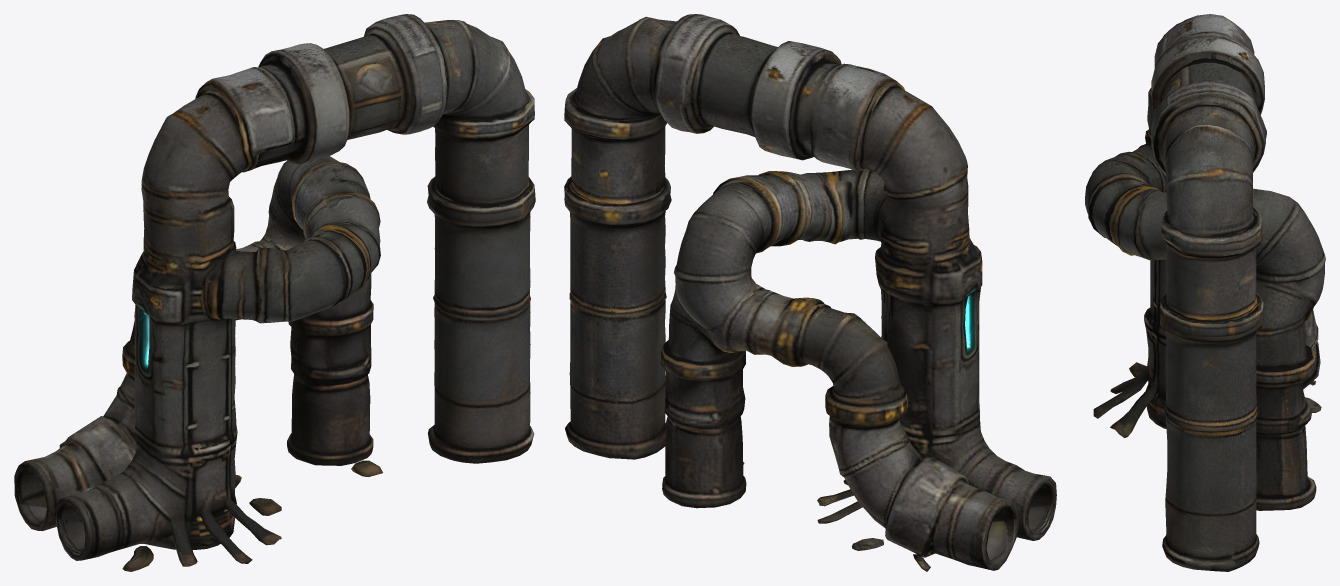
Rendered from industrial-pipe-loop.glb.
3 renders of one model, left to right at view 1: azimuth 30°, elevation 25°; view 2: azimuth 150°, elevation 25°; view 3: azimuth 270°, elevation 25°, orthographic. The views are drawn at different scales.
Visible parts, largest first — view 1: Mesh_0.001; view 2: Mesh_0.001; view 3: Mesh_0.001.
Boxes of the visible parts, box(x1,y1,x2,y2) form: Mesh_0.001: box(14, 14, 535, 571); Mesh_0.001: box(564, 14, 1056, 571); Mesh_0.001: box(1085, 14, 1325, 571).
Size of the model in its own units: 0.9718 by 0.9 by 0.449.
1 material, 1 textured.
